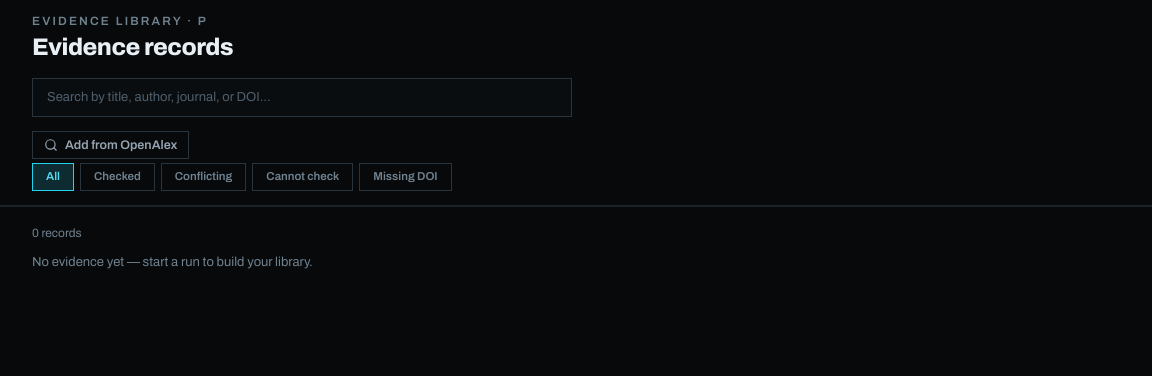
EvidenceLibrary external fetch — gated + collapsed (M13) › real backend: fetching merges a record and shows the status banner
Check: the search field named "Search evidence records" is shown, box [32, 78, 572, 117]
Click the button "Add from OpenAlex".
click(111, 145)  # box [32, 131, 189, 159]
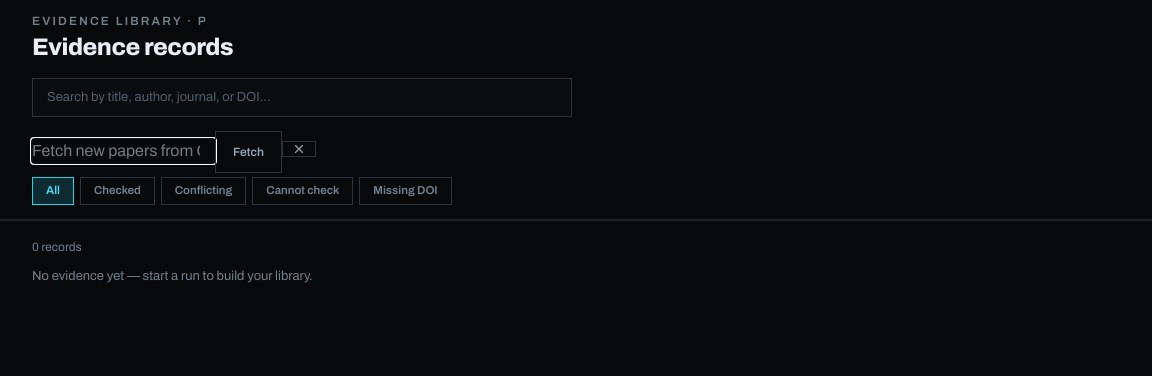
Type "worker well-being" into the search field named "Search external sources".
click(124, 151); type("worker well-being")  # box [32, 139, 215, 163]
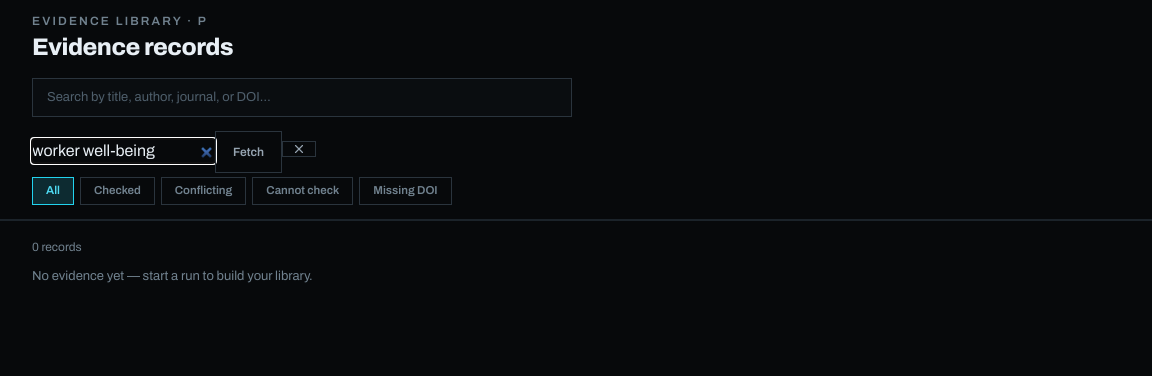
Click the button "Fetch".
click(248, 152)  # box [215, 131, 282, 173]
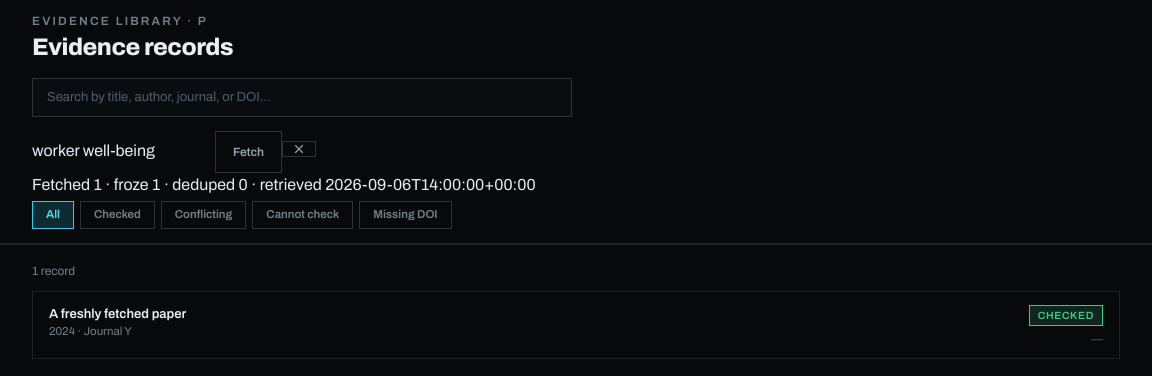
Check: the text "A freshly fetched paper" is shown, box [49, 307, 186, 321]
Check: the text "Fetched 1 · froze 1 · deduped 0 · retrieved 2026-09-06T14:00:00+00:00" is shown, box [32, 176, 536, 193]
